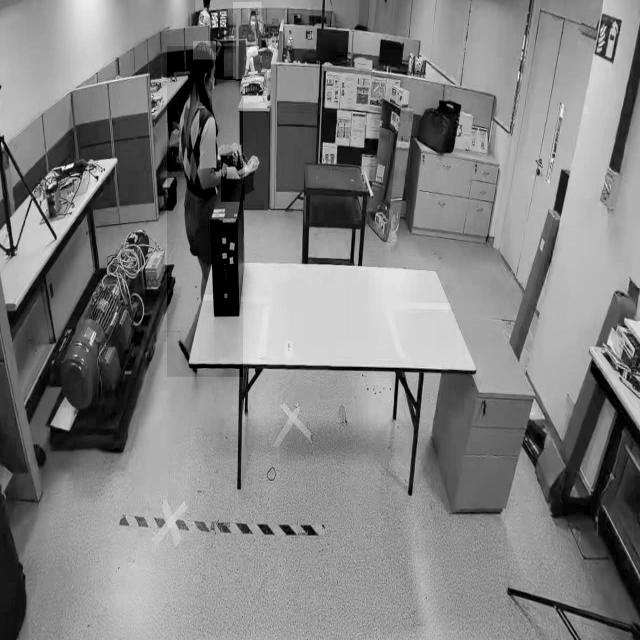face_mask: (249, 12, 257, 28)
hand_glove: (221, 156, 245, 202)
head_nohelmet: (192, 41, 216, 60), (250, 9, 258, 16), (203, 0, 211, 2)
person: (167, 46, 243, 378), (232, 2, 262, 80)
